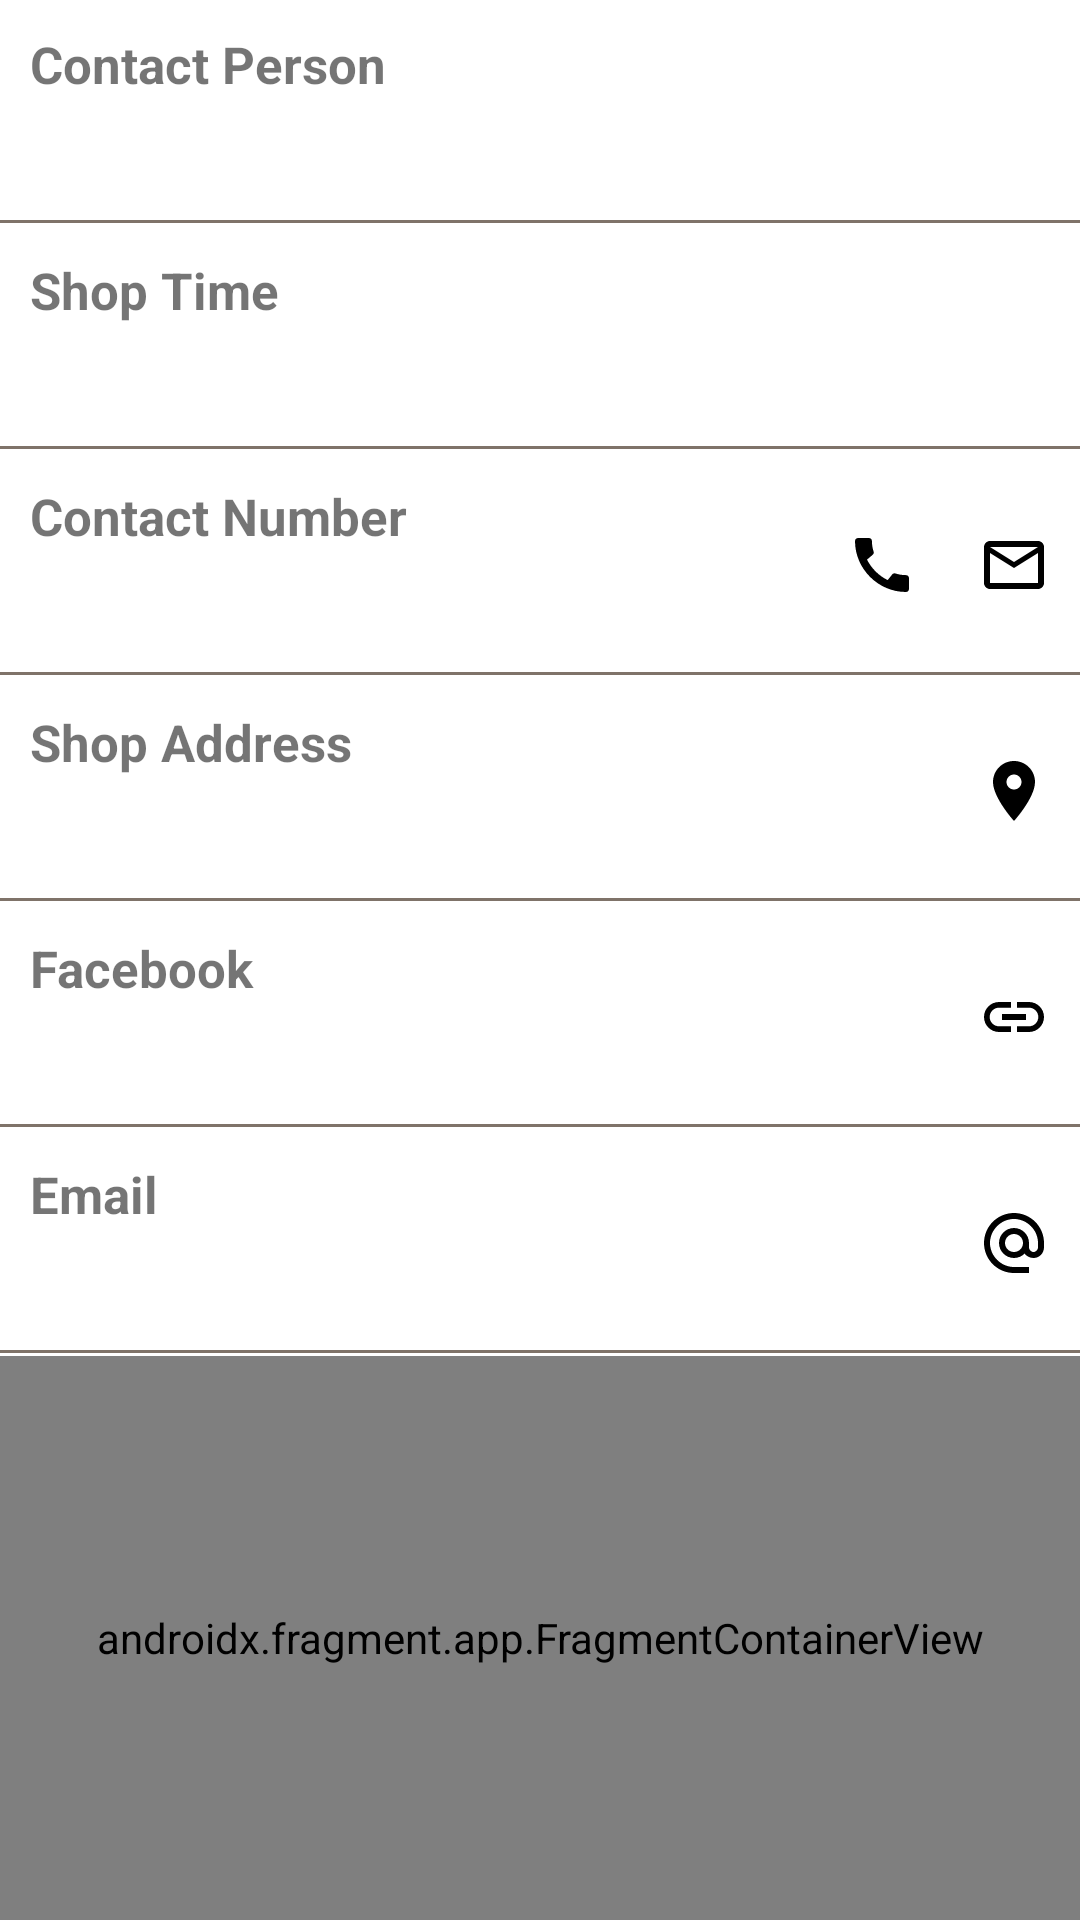

Screen size 1080x1920. Icon name, then its box in pixels as (x1, y1, x2, y2):
call: (855, 538, 909, 592)
link: (984, 1002, 1044, 1032)
location on: (993, 761, 1035, 821)
mail: (984, 541, 1044, 589)
